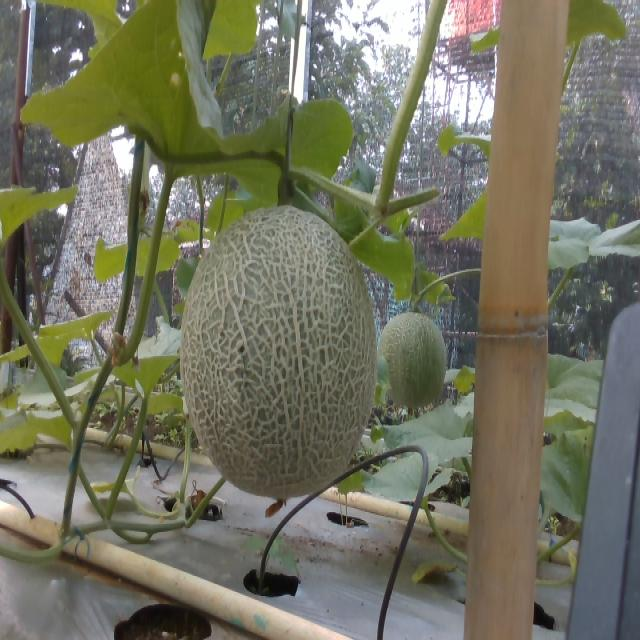melon: (182, 205, 377, 501)
